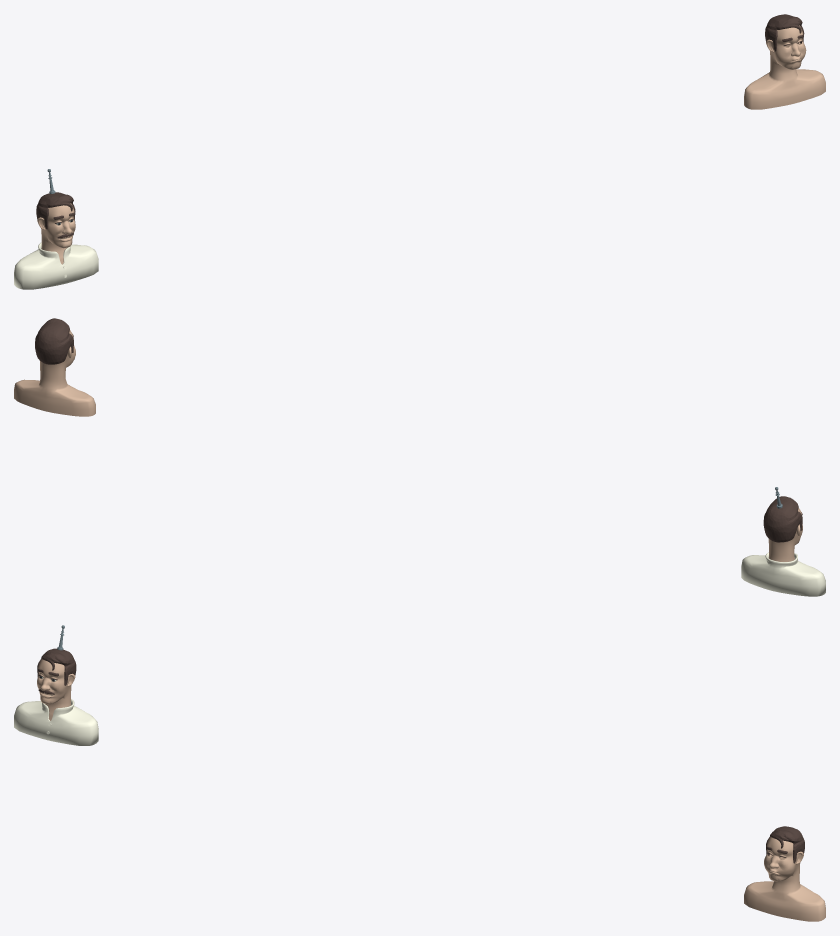
Rendered from HeadAnimated03.fbx.
3 views of the same model, one above another, from view 1: azimuth 30°, elevation 25°; view 2: azimuth 150°, elevation 25°; view 3: azimuth 330°, elevation 25° (orthographic).
Visible parts, largest first — view 1: pasted__MouthCheekInflate, Body, Head01; view 2: pasted__MouthCheekInflate, Body, Head01; view 3: pasted__MouthCheekInflate, Body, Head01.
Boxes of the visible parts, x1,y1,x2,y2 form: pasted__MouthCheekInflate: [744, 14, 825, 109]; Body: [14, 242, 98, 289]; Head01: [36, 192, 75, 264]; pasted__MouthCheekInflate: [14, 318, 95, 416]; Body: [741, 552, 825, 596]; Head01: [763, 496, 802, 561]; pasted__MouthCheekInflate: [744, 826, 825, 921]; Body: [14, 699, 98, 745]; Head01: [37, 648, 76, 720].
Size of the model in its own units: 97.94 by 11.99 by 5.25.
